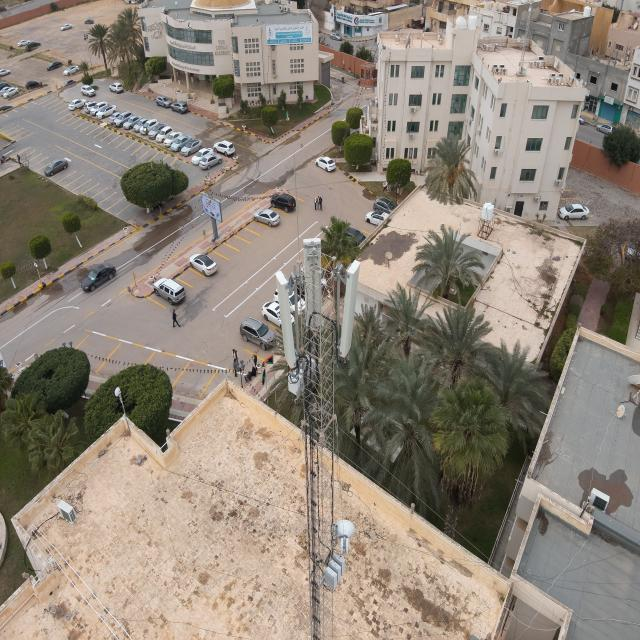antenna: (274, 272, 300, 375), (337, 259, 359, 364), (302, 239, 324, 332)
lighnig-rad: (292, 143, 304, 270)
microware-dish: (332, 516, 355, 559)
power-box: (319, 552, 351, 587)
radio-unit: (285, 371, 318, 402)
